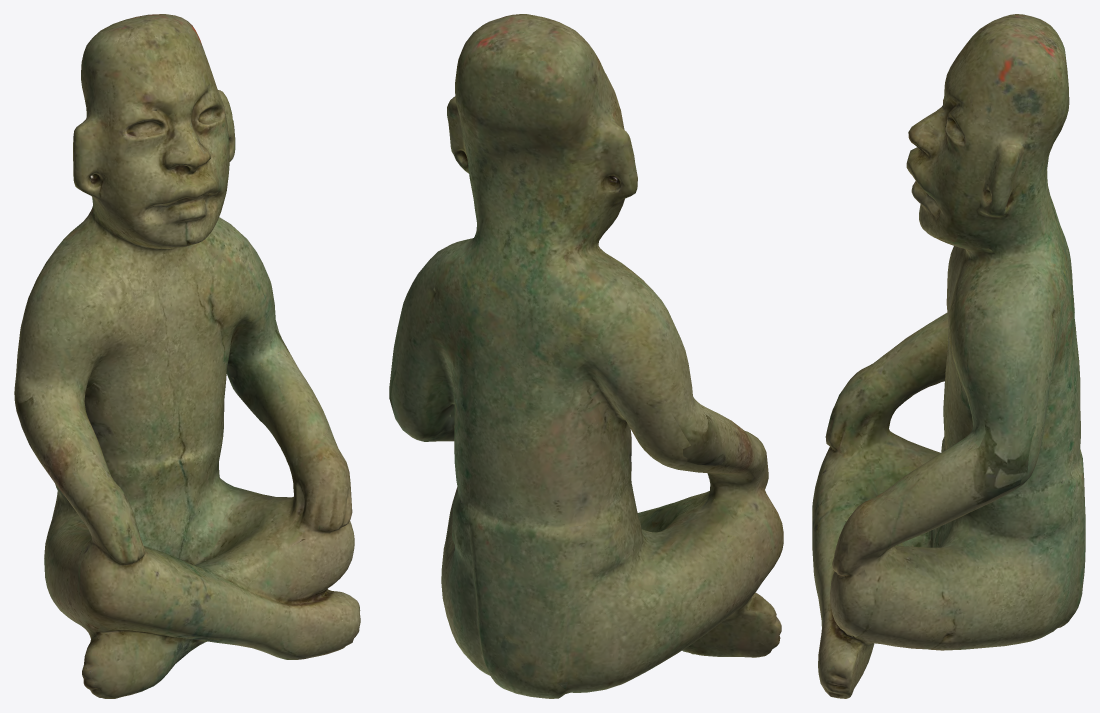
File: preview.glb
The picture shows the model from 3 angles, left to right: view 1: azimuth 30°, elevation 25°; view 2: azimuth 150°, elevation 25°; view 3: azimuth 270°, elevation 25°; orthographic projection. The views are drawn at different scales.
Visible parts, largest first — view 1: Object_4; view 2: Object_4; view 3: Object_4.
Boxes of the visible parts, x1,y1,x2,y2 form: Object_4: [14, 14, 360, 698]; Object_4: [389, 14, 783, 698]; Object_4: [812, 14, 1085, 698].
Size of the model in its own units: 0.1043 by 0.2127 by 0.0851.
1 material, 1 textured.
